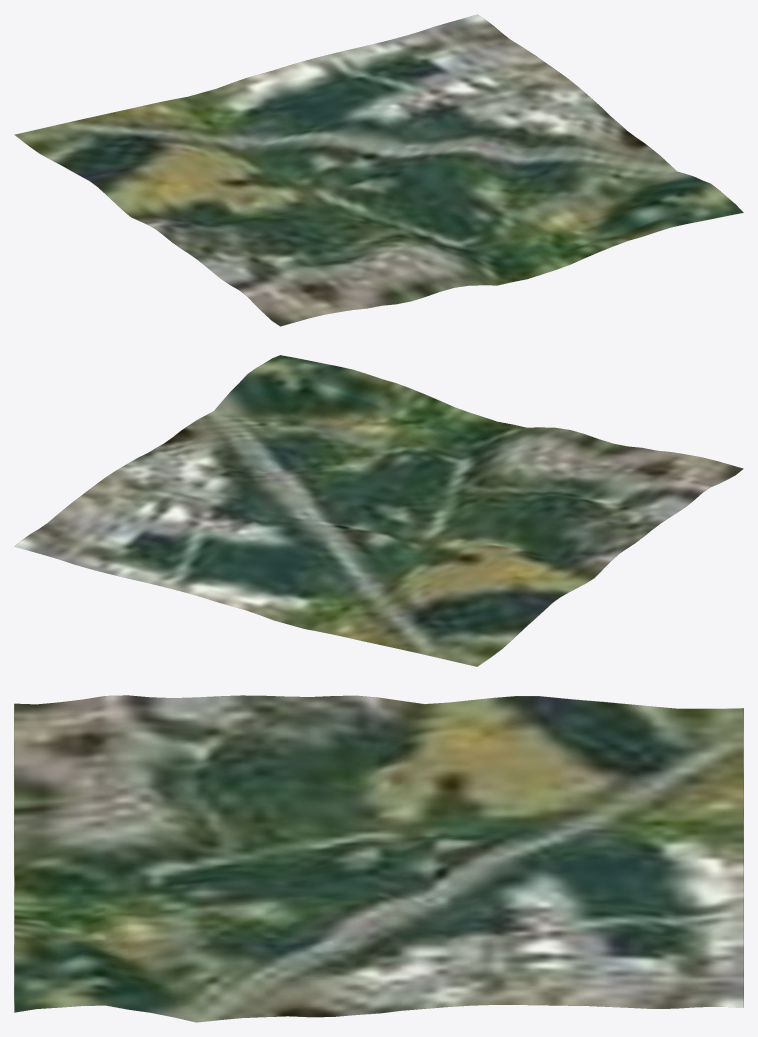
The picture shows the model from 3 angles, top to bottom: view 1: azimuth 30°, elevation 25°; view 2: azimuth 150°, elevation 25°; view 3: azimuth 270°, elevation 25°; orthographic projection. The views are drawn at different scales.
Size of the model in its own units: 975 by 39.03 by 971.
Materials: 1 (1 with a texture image).
